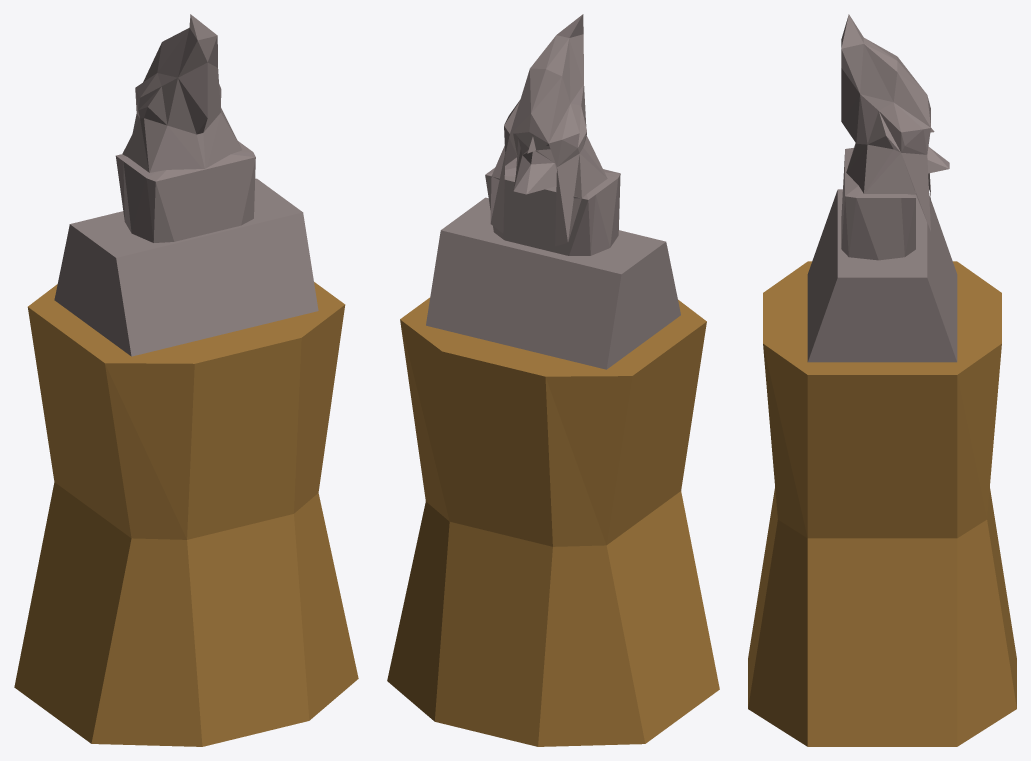
File: obj_gnome_statue_3_0.obj
The picture shows the model from 3 angles, left to right: view 1: azimuth 30°, elevation 25°; view 2: azimuth 150°, elevation 25°; view 3: azimuth 270°, elevation 25°; orthographic projection. The views are drawn at different scales.
Bounding box in the file's own units: 0.625 × 1.53 × 0.5625.
